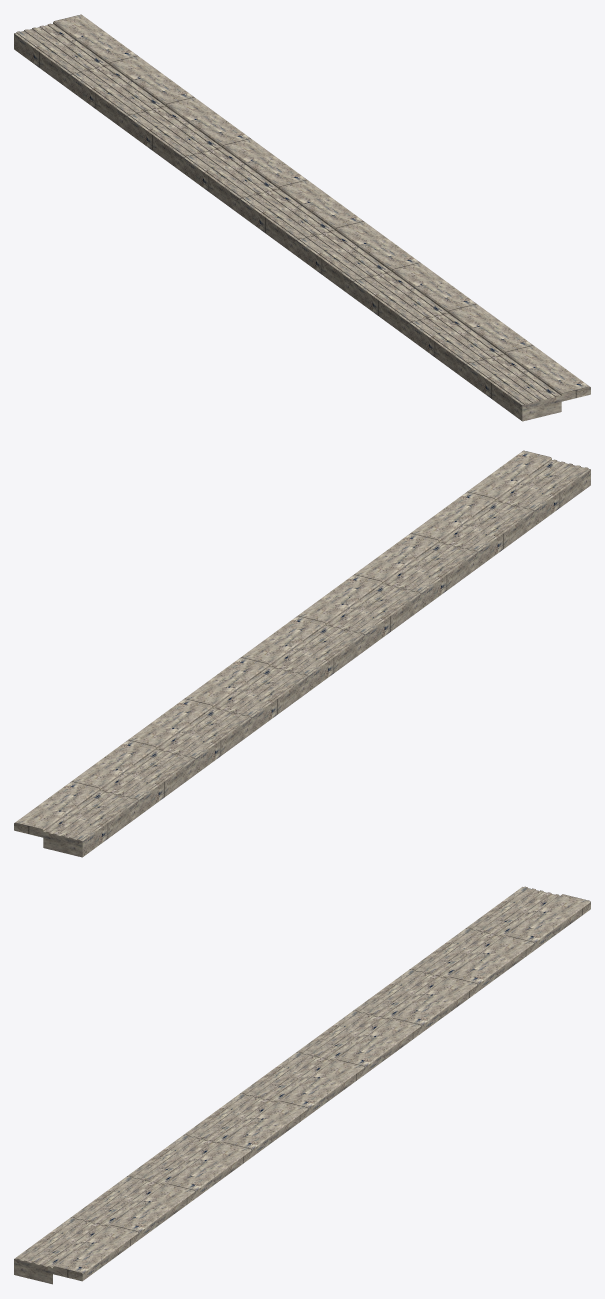
File: SM_Pav_Cordolo_9m.fbx
3 views of the same model, one above another, from view 1: azimuth 30°, elevation 25°; view 2: azimuth 150°, elevation 25°; view 3: azimuth 330°, elevation 25° (orthographic).
Parts seen in each view (by area): view 1: SM_Pav_Cordolo_9m; view 2: SM_Pav_Cordolo_9m; view 3: SM_Pav_Cordolo_9m.
Part boxes in pixels (x1,y1,x2,y2): SM_Pav_Cordolo_9m: (14, 14, 590, 421); SM_Pav_Cordolo_9m: (14, 450, 590, 857); SM_Pav_Cordolo_9m: (14, 886, 590, 1284).
Size of what is drawn, in the model's own units: 70 by 900 by 18.
1 material, 1 textured.
